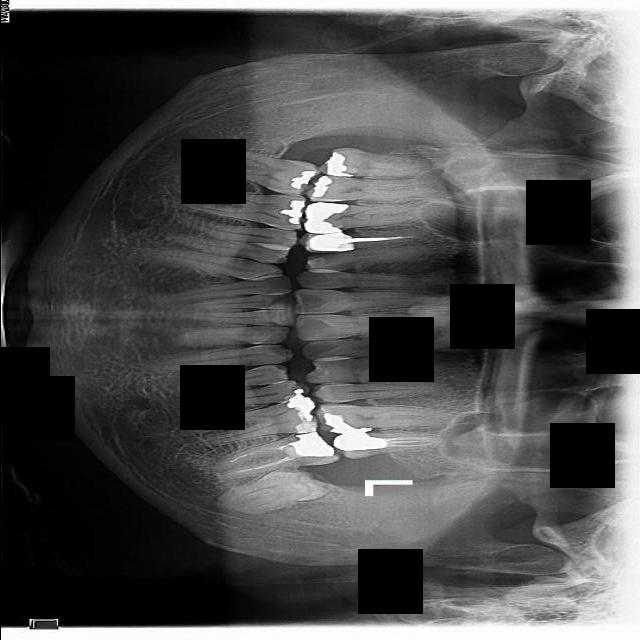71: (312, 236, 389, 249)
74: (230, 453, 299, 478), (231, 445, 275, 462), (386, 437, 434, 448), (383, 236, 413, 241)
NucleOSS Implant: (286, 423, 335, 473), (301, 199, 348, 237), (319, 411, 373, 439), (317, 147, 354, 187), (285, 387, 324, 424), (332, 431, 388, 451), (288, 163, 319, 193), (277, 194, 306, 226), (306, 173, 334, 201)
Sterngold Implant: (312, 252, 341, 262)
Straumann Implant: (292, 418, 316, 435)
Zimmer Implant: (296, 232, 355, 252)
